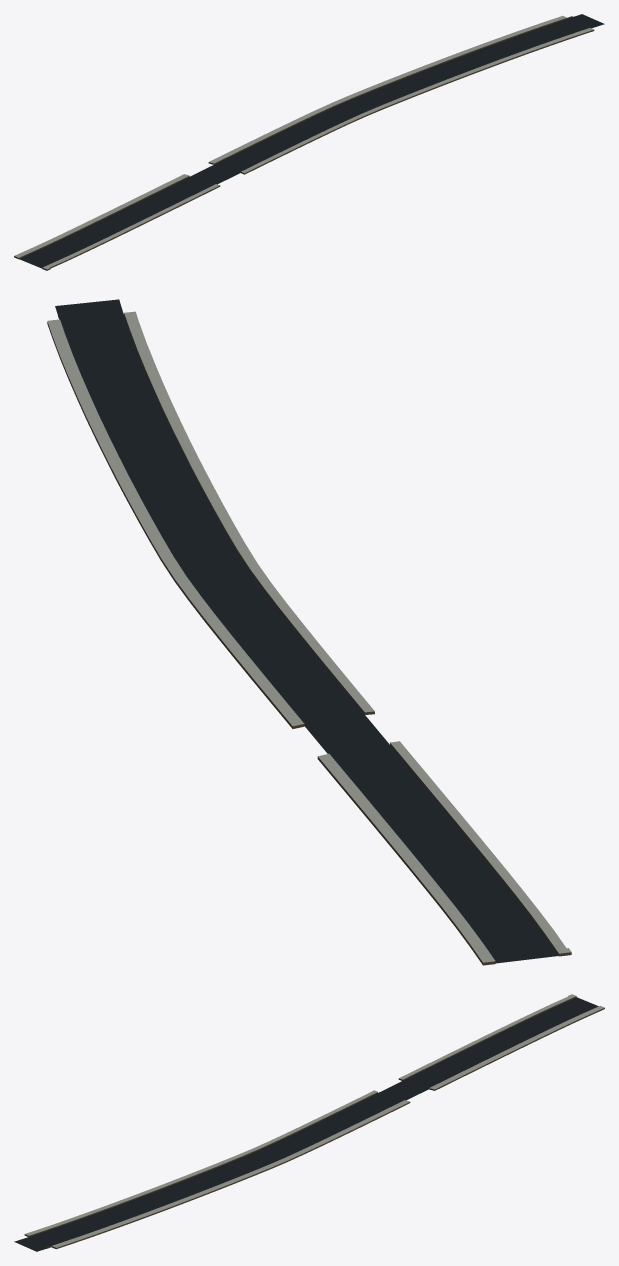
Rendered from SM_Mapa_Road_1.fbx.
3 views of the same model, one above another, from view 1: azimuth 90°, elevation 25°; view 2: azimuth 150°, elevation 25°; view 3: azimuth 270°, elevation 25° (orthographic). The views are drawn at different scales.
Visible parts, largest first — view 1: SM_Mapa_Road_1; view 2: SM_Mapa_Road_1; view 3: SM_Mapa_Road_1.
Part boxes in pixels (x1=…): SM_Mapa_Road_1: x1=14, y1=14, x2=604, y2=270; SM_Mapa_Road_1: x1=47, y1=299, x2=571, y2=965; SM_Mapa_Road_1: x1=14, y1=994, x2=604, y2=1251.
Size of the model in its own units: 78.65 by 76.54 by 0.2.
